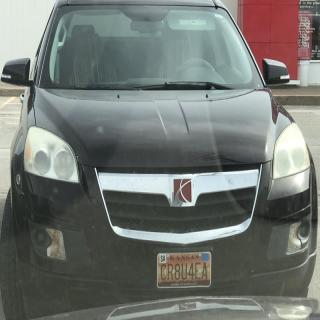license: (157, 252, 212, 290)
